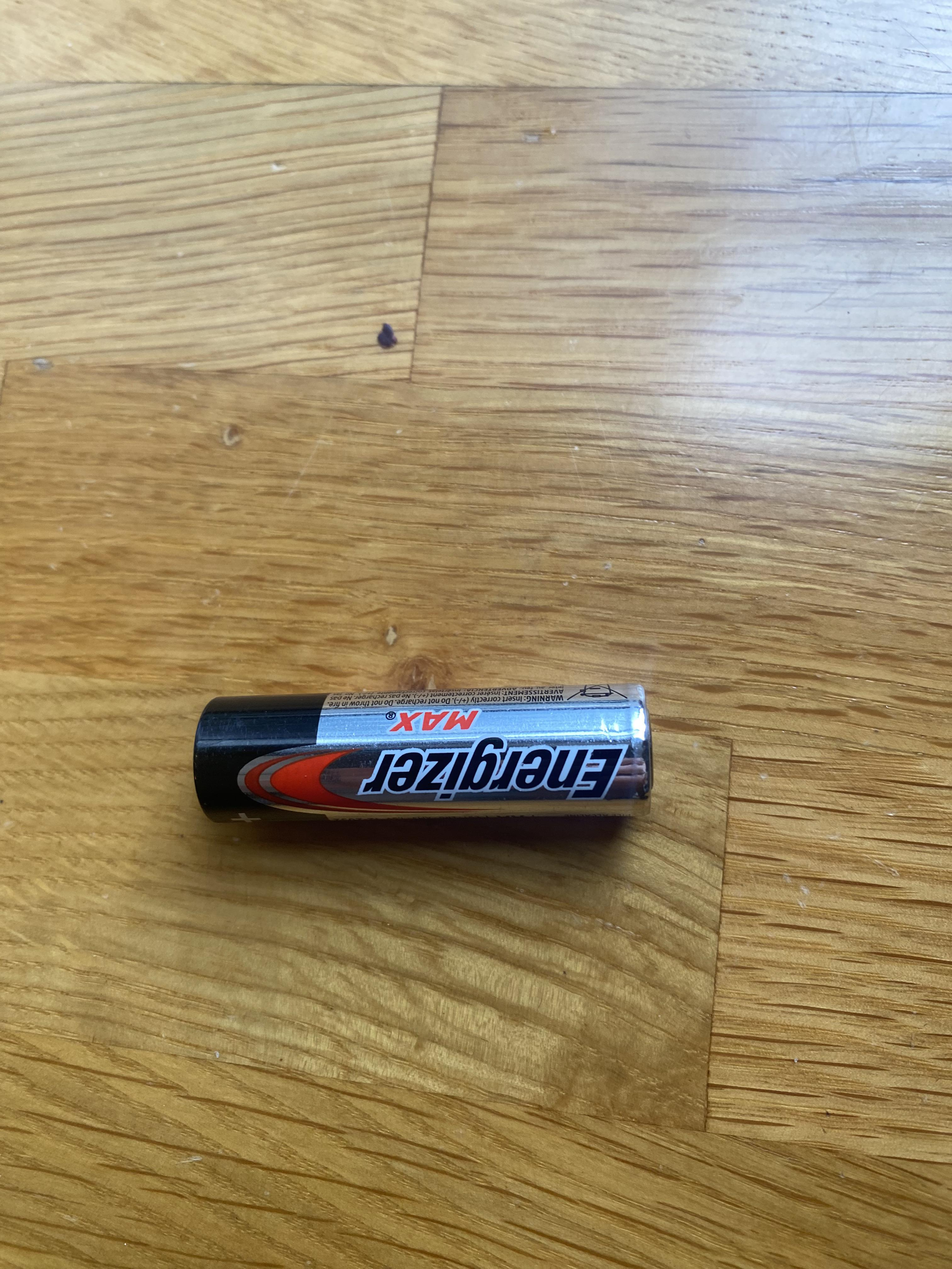AA: (192, 681, 654, 824)
